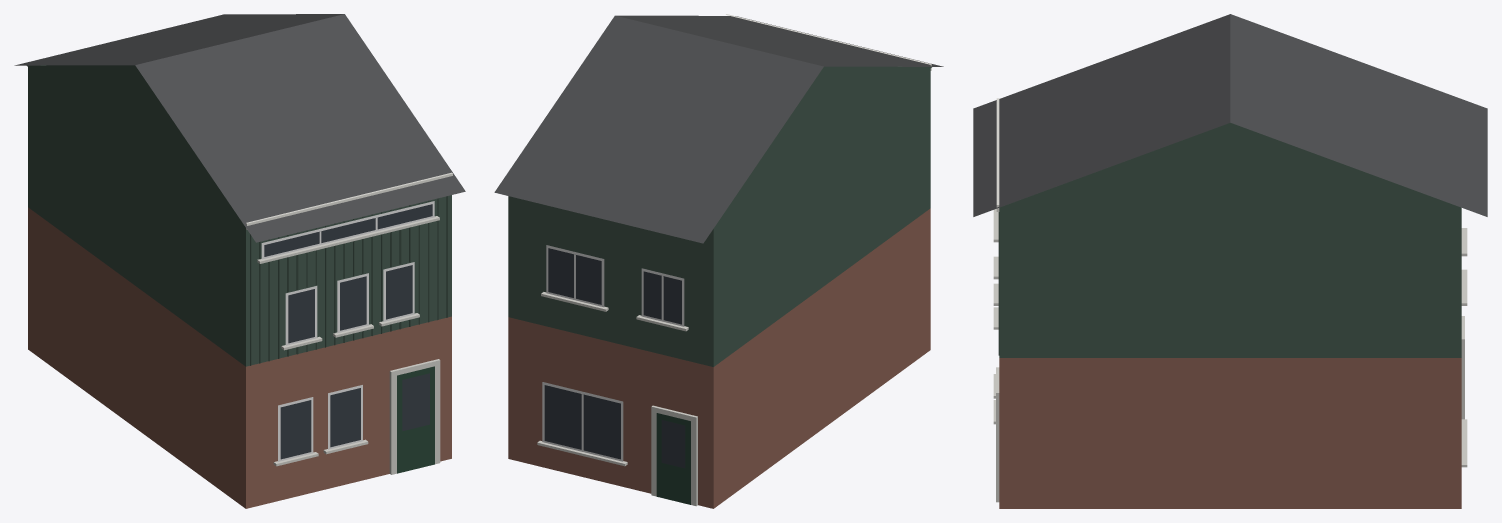
Rendered from nw-ao-hebriden-clad__green__2__gable__long__solid__mirror.glb.
3 renders of one model, left to right at view 1: azimuth 30°, elevation 25°; view 2: azimuth 150°, elevation 25°; view 3: azimuth 270°, elevation 25°, orthographic. The views are drawn at different scales.
Visible parts, largest first — view 1: nw-ao-hebriden-clad__green__2__gable__long__solid__mirror; view 2: nw-ao-hebriden-clad__green__2__gable__long__solid__mirror; view 3: nw-ao-hebriden-clad__green__2__gable__long__solid__mirror.
Boxes of the visible parts, box(x1,y1,x2,y2) form: nw-ao-hebriden-clad__green__2__gable__long__solid__mirror: box(14, 14, 465, 508); nw-ao-hebriden-clad__green__2__gable__long__solid__mirror: box(494, 14, 943, 508); nw-ao-hebriden-clad__green__2__gable__long__solid__mirror: box(973, 14, 1487, 508).
Bounding box in the file's own units: 5.48 × 9.1 × 10.95.
